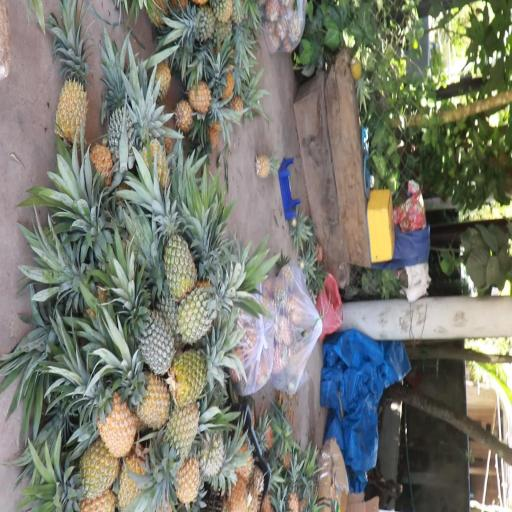------------------------------: (148, 184, 198, 290), (176, 268, 245, 340), (170, 343, 238, 398)
Pineapple - v8 v1: (73, 358, 135, 454), (109, 348, 170, 432), (52, 20, 90, 150), (156, 398, 198, 492), (52, 440, 118, 499)
